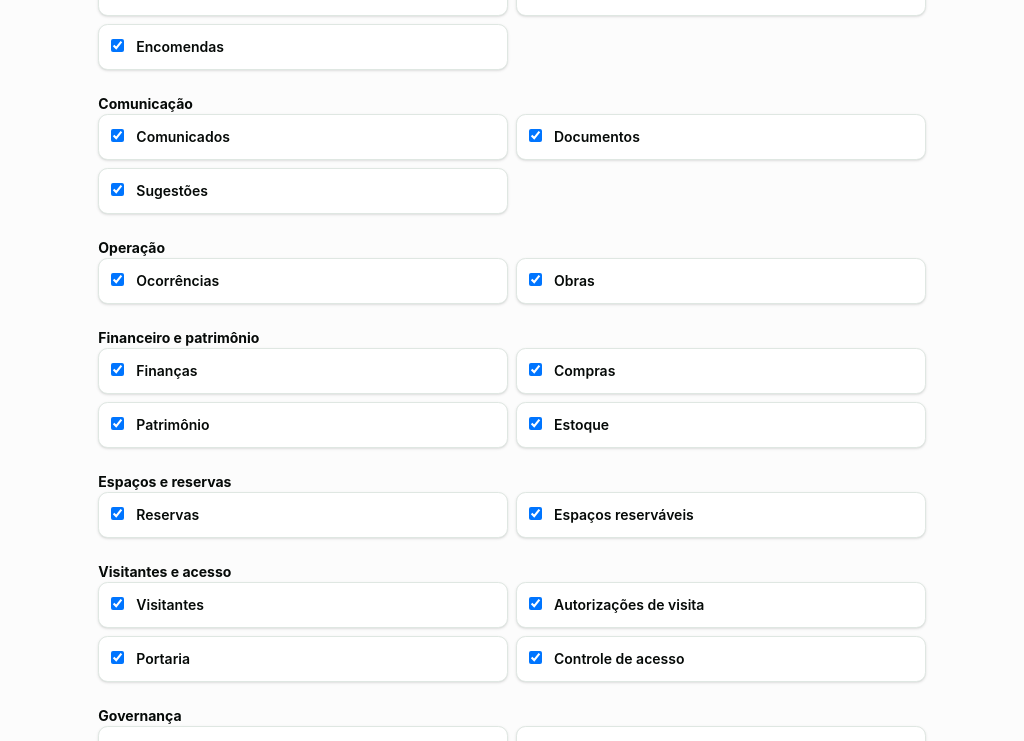
Test: TenantModulesPage › PUTs the derived disabled_modules when a module is unchecked and saved
The width and height of the screenshot is (1024, 741).
(page scrolled)
Step 1. Click the checkbox labelled "Finanças" → (118, 370), box [111,363,124,376]
(page scrolled)
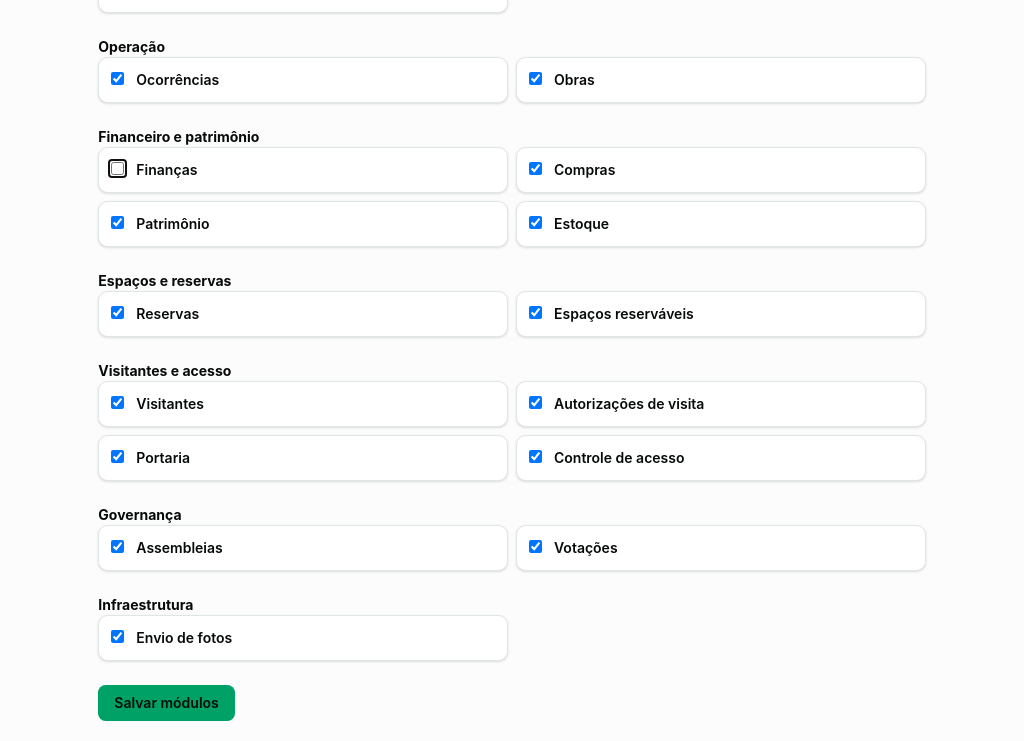
Step 2. Click the button "Salvar módulos" → (167, 703), box [98,685,235,721]
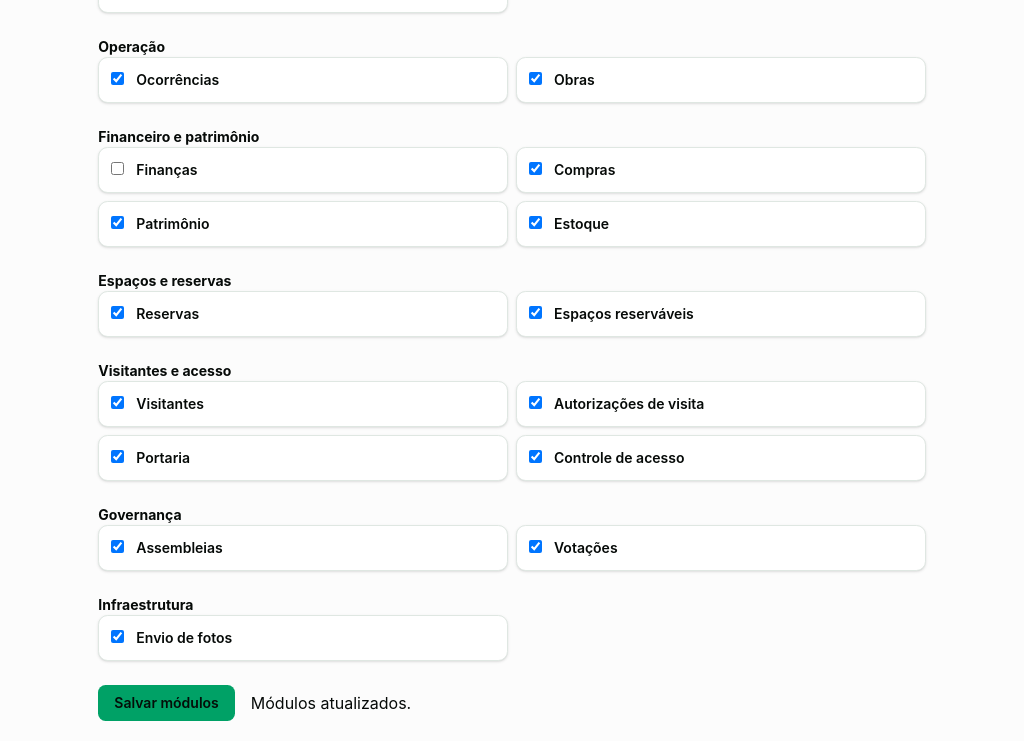
Expected: the text "Módulos atualizados." is shown, [251,691,411,715]
